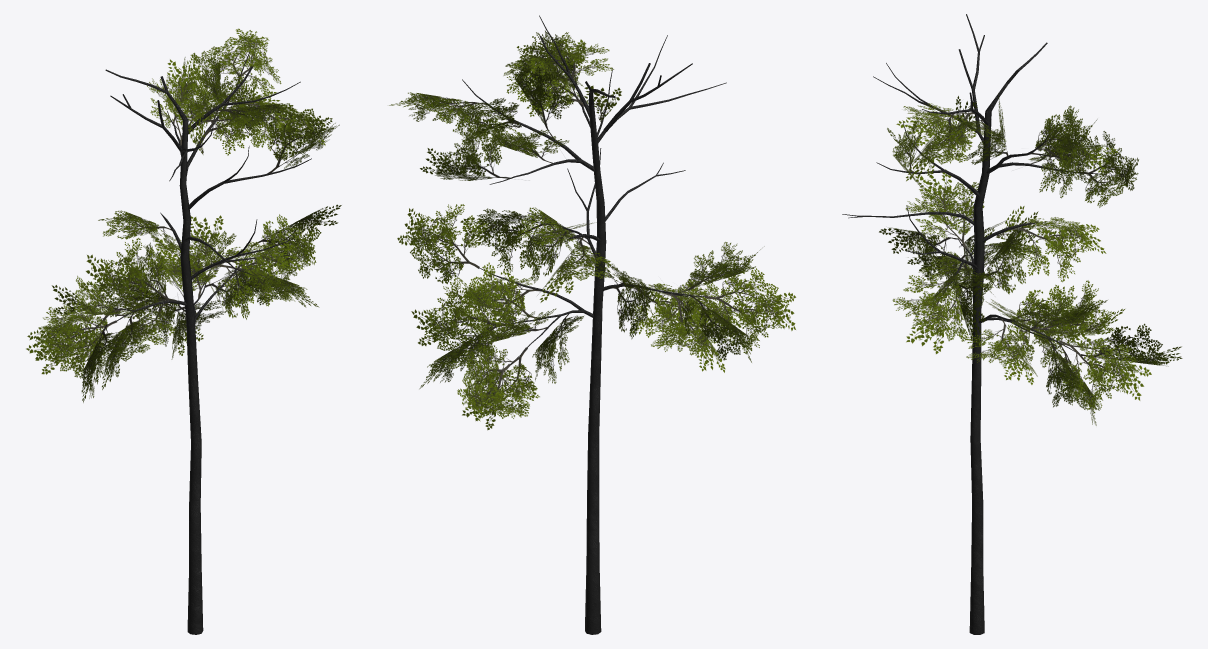
The model's file is dead_tree.glb.
3 views of the same model, side by side, from view 1: azimuth 30°, elevation 25°; view 2: azimuth 150°, elevation 25°; view 3: azimuth 270°, elevation 25° (orthographic). The views are drawn at different scales.
Visible parts, largest first — view 1: Object_81; view 2: Object_81; view 3: Object_81.
Part boxes in pixels (x1,y1,x2,y2): Object_81: [26, 28, 341, 634]; Object_81: [389, 15, 795, 634]; Object_81: [842, 14, 1182, 634].
Bounding box in the file's own units: 9.22 × 14.32 × 7.96.
2 materials, 2 textured.
